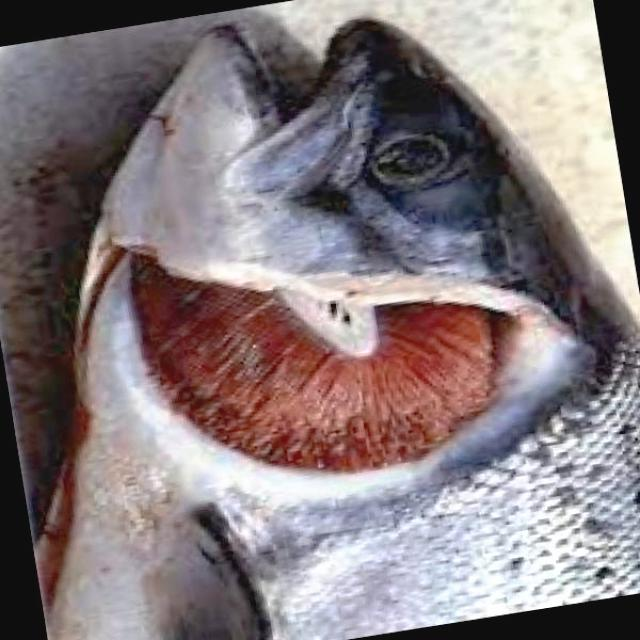Flavobacterium -Bacterial Gill Disease-: (43, 19, 639, 639)
